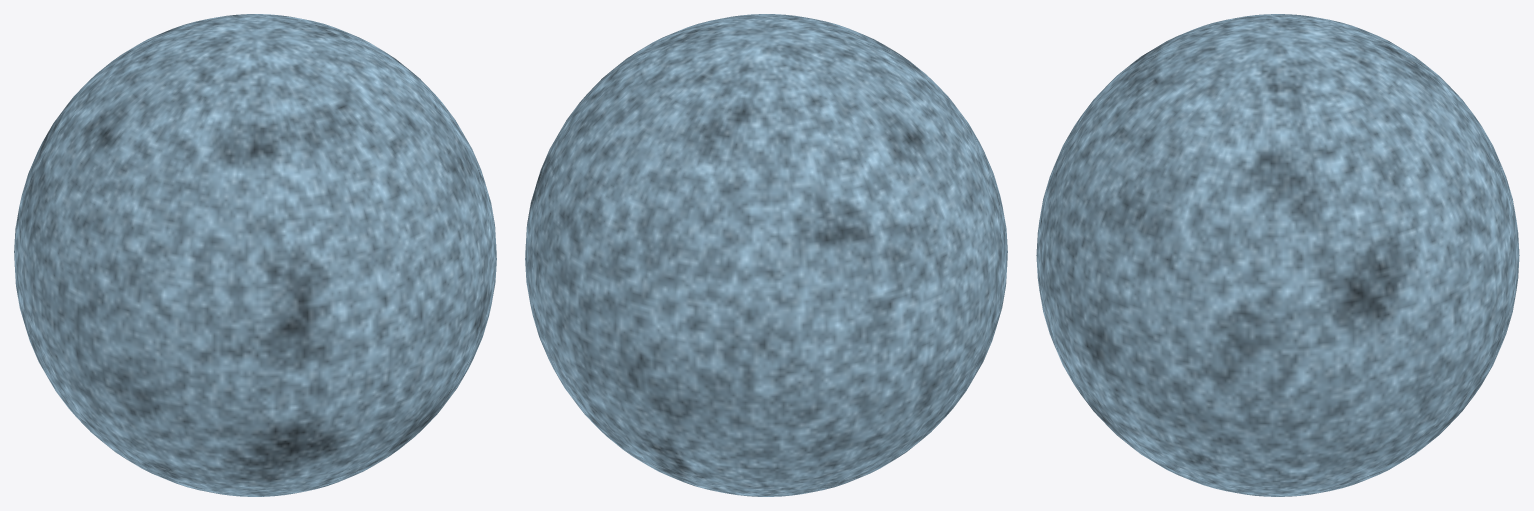
The model's file is estrela-white.glb.
The picture shows the model from 3 angles, left to right: view 1: azimuth 30°, elevation 25°; view 2: azimuth 150°, elevation 25°; view 3: azimuth 270°, elevation 25°; orthographic projection.
Visible parts, largest first — view 1: Fotosfera · white; view 2: Fotosfera · white; view 3: Fotosfera · white.
Boxes of the visible parts, x1,y1,x2,y2 form: Fotosfera · white: [14, 14, 496, 496]; Fotosfera · white: [525, 14, 1007, 496]; Fotosfera · white: [1036, 14, 1519, 496].
Bounding box in the file's own units: 2 × 2 × 2.
1 material, 1 textured.
